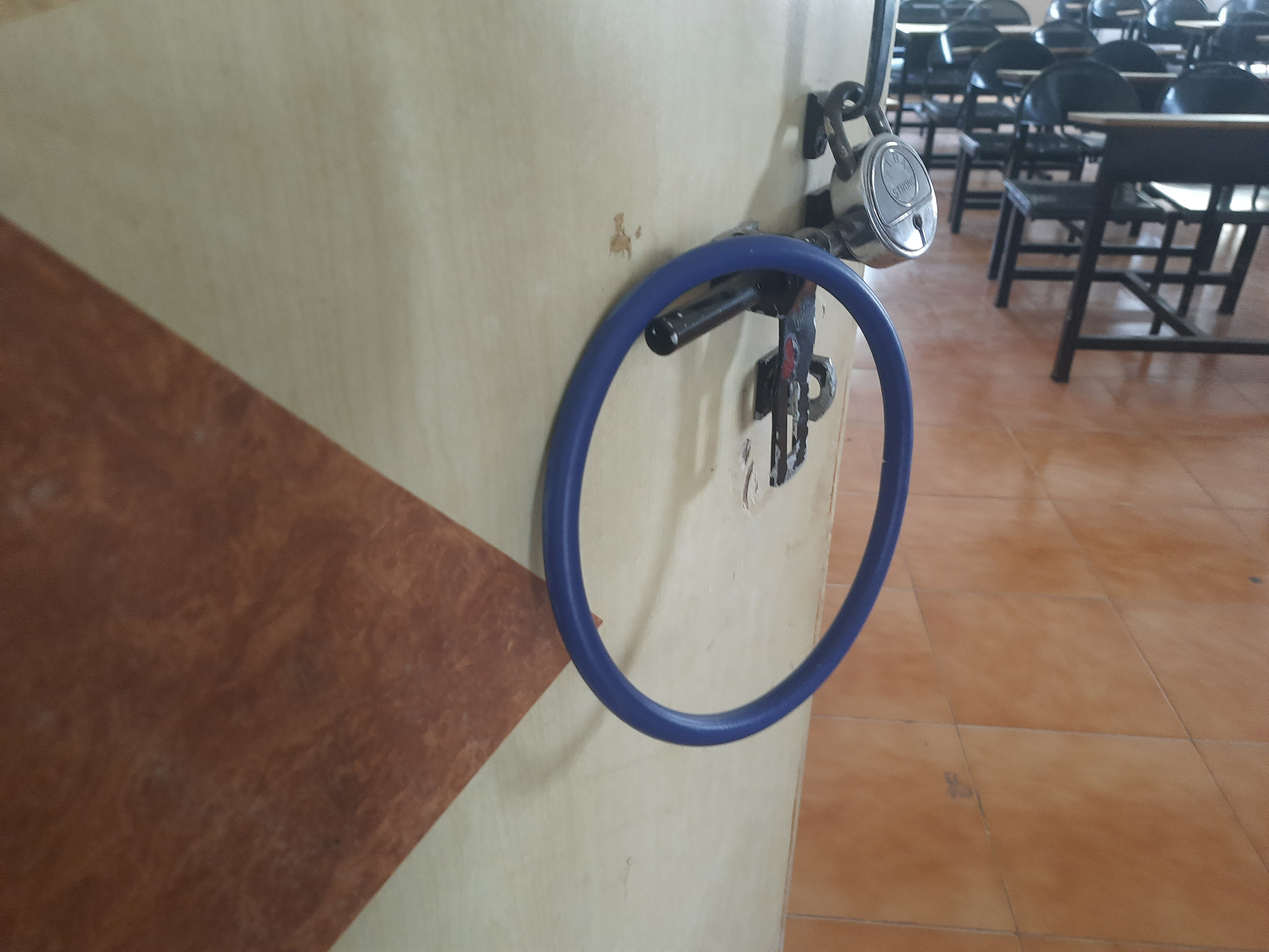Blue ring: (539, 236, 911, 747)
